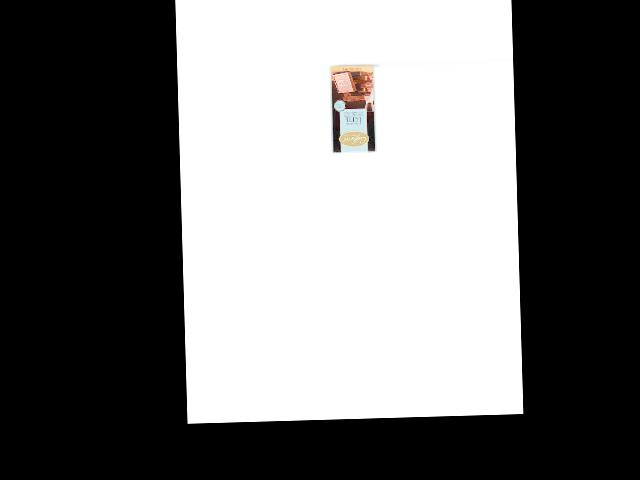chocolate: (328, 63, 378, 154)
